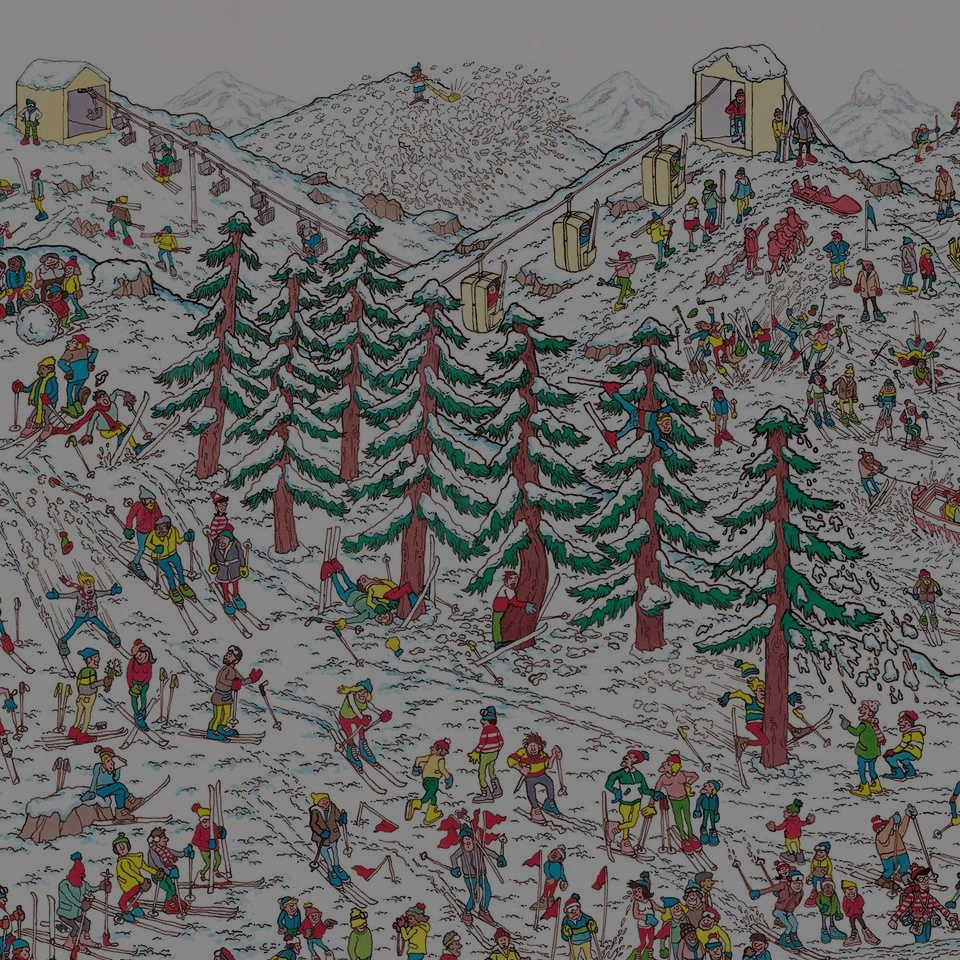waldo: (888, 863, 958, 948)
